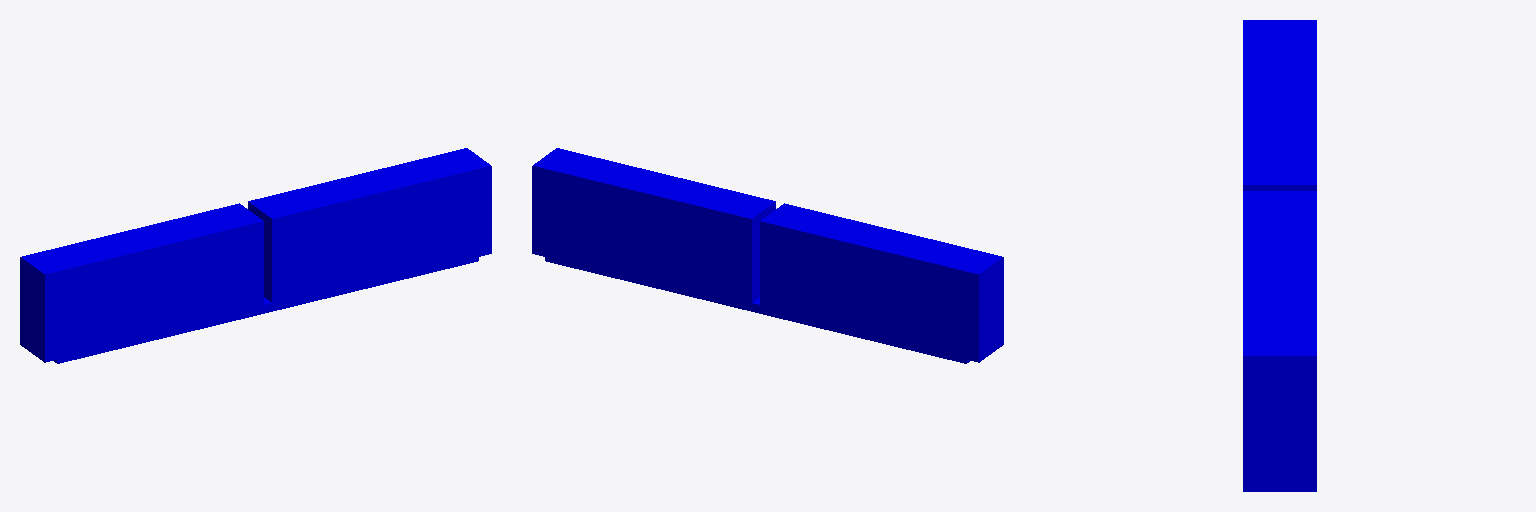
URDF robot description (simple_box):
<?xml version="1.0" ?>
<robot name="simple_box">
  <!-- ===================== base_box - link1 ==============================================-->
  <!-- base_box -->
  <link name="base_link">
    <!--見た目の定義-->
    <visual>
      <!--linkの原点からのオフセット-->
      <origin xyz="0 0 0" rpy="0 0 0"/>
      <geometry>
        <!--base_boxのサイズ（見た目）を指定-->
        <box size="5 0.5 0.1"/>
      </geometry>
      <!--色の指定-->
      <material name="blue">
        <color rgba="0 0 1 1"/>
      </material>
    </visual>

    <!--衝突の定義（特段の理由がなければ、基本的にvisualタグと同じ設定でよい-->
    <collision>
      <!--linkの原点からのオフセット-->
      <origin xyz="0 0 0" rpy="0 0 0"/>
      <geometry>
        <!--base_boxのサイズ（衝突領域）を指定-->
        <box size="5 0.5 0.1"/>
      </geometry>
      <!--衝突に関する設定なので、materialタグはない-->
    </collision>

    <!--イナーシャ（慣性）に関する設定-->
    <inertial>
        <!--linkの原点からのオフセット-->
        <origin xyz="0 0 0" rpy="0 0 0" />
        <!--linkの重量-->
        <mass value="1" />
        <!--イナーシャ-->
        <inertia ixx="0.000034533333" 
            ixy="0"  ixz="0"
            iyx="0"  iyy="0.000034533333" 
            iyz="0"
            izx="0"  izy="0"  izz="0.0000648" />
    </inertial>
  </link>

  <link name="link1">
    <visual>
      <origin xyz="0 0 0" rpy="0 0 0"/>
      <geometry>
        <box size="2.6 0.5 1.0"/>
      </geometry>
      <material name="blue">
        <color rgba="0 0 1 1"/>
      </material>
    </visual>

    <collision>
      <origin xyz="0 0 0" rpy="0 0 0"/>
      <geometry>
        <box size="2.6 0.5 1.0"/>
      </geometry>
    </collision>

    <inertial>
        <origin xyz="0 0 0" rpy="0 0 0" />
        <mass value="1" />
        <inertia ixx="0.000034533333" 
            ixy="0"  ixz="0"
            iyx="0"  iyy="0.000034533333" 
            iyz="0"
            izx="0"  izy="0"  izz="0.0000648" />
    </inertial>
  </link>

  <joint name="joint1" type="fixed">
    <origin xyz="1.35 0 0.5" rpy="0 0 0"/>
    <parent link="base_link"/>
    <child link="link1"/>
  </joint>

  <!--base_link <-> link2 -->
  <link name="link2">
    <visual>
      <origin xyz="0 0 0" rpy="0 0 0"/>
      <geometry>
        <box size="2.6 0.5 1.0"/>
      </geometry>
      <material name="blue">
        <color rgba="0 0 1 1"/>
      </material>
    </visual>

    <collision>
      <origin xyz="0 0 0" rpy="0 0 0"/>
      <geometry>
        <box size="2.6 0.5 1.0"/>
      </geometry>
    </collision>

    <inertial>
        <origin xyz="0 0 0" rpy="0 0 0" />
        <mass value="1" />
        <inertia ixx="0.000034533333" 
            ixy="0"  ixz="0"
            iyx="0"  iyy="0.000034533333" 
            iyz="0"
            izx="0"  izy="0"  izz="0.0000648" />
    </inertial>

  </link>
  
  <joint name="joint2" type="fixed">
    <origin xyz="-1.35 0 0.5" rpy="0 0 0"/>
    <parent link="base_link"/>
    <child link="link2"/>
  </joint>

</robot>

--- Render facts (derived) ---
The picture shows the robot from 3 angles, left to right: view 1: azimuth 30°, elevation 25°; view 2: azimuth 150°, elevation 25°; view 3: azimuth 270°, elevation 25°; orthographic projection.
Model simple_box with 3 links and 2 joints (2 fixed), rooted at base_link, posed all joints at 0.
Visible links, largest first — view 1: link2, link1, base_link; view 2: link2, link1, base_link; view 3: link1, link2.
Link boxes in pixels (x1,y1,x2,y2): link2: [20, 203, 263, 362]; link1: [248, 148, 491, 306]; base_link: [54, 253, 478, 363]; link2: [760, 203, 1003, 362]; link1: [532, 148, 775, 306]; base_link: [545, 253, 969, 363]; link1: [1243, 191, 1316, 491]; link2: [1243, 20, 1316, 190].
Bounding box of the posed robot: 5.3 × 0.5 × 1.05 m (x, y, z).
Geometry: primitives only (box / cylinder / sphere), no mesh files.
